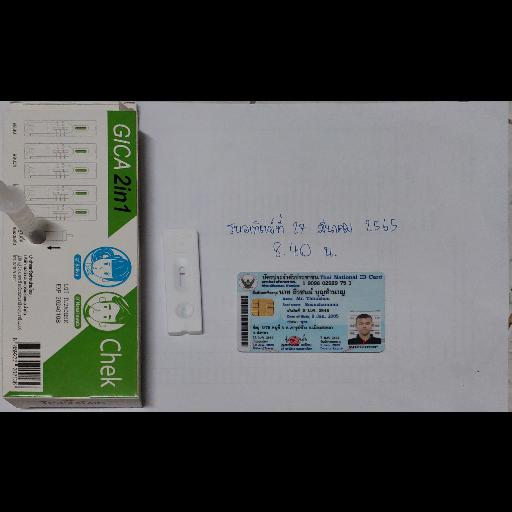Neg: (162, 227, 203, 333)
